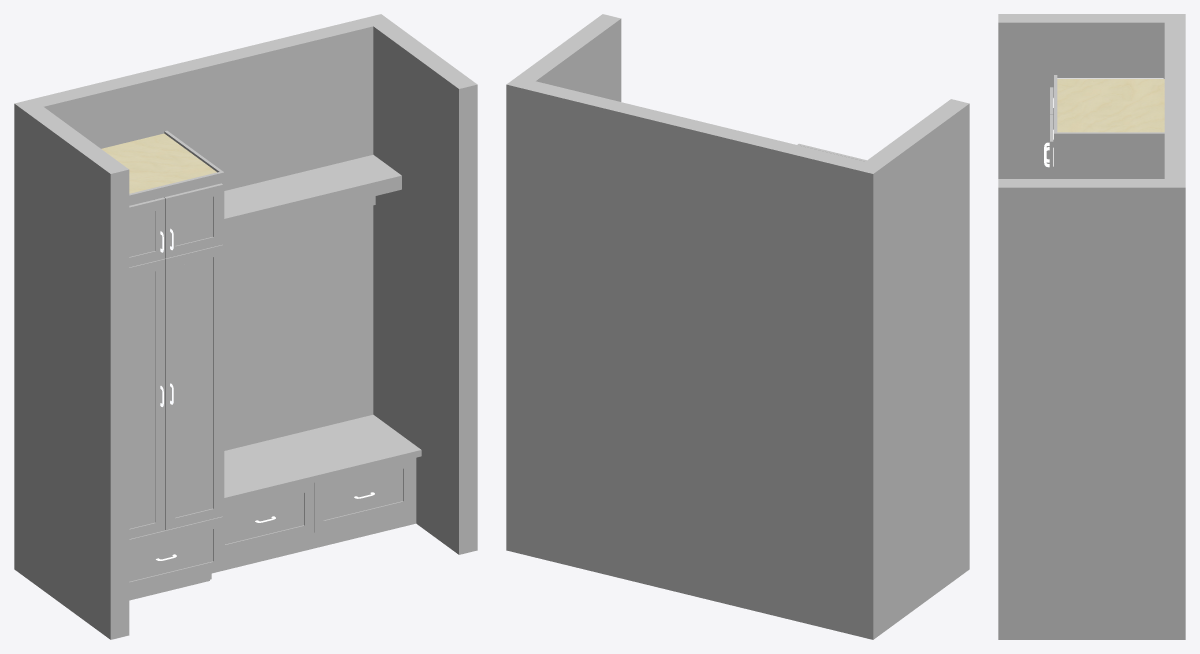
The model's file is Mudroom.dae.
3 renders of one model, left to right at view 1: azimuth 30°, elevation 25°; view 2: azimuth 150°, elevation 25°; view 3: azimuth 270°, elevation 25°, orthographic. The views are drawn at different scales.
Parts seen in each view (by area): view 1: N_WALL-Sh7a298430_Wall_Wall_Room_2a, N_WALL-Sh7a297cb0_Wall_Wall_Room_1a, N_WALL-Sh7a297e90_Wall_Wall_Room_415a, N_DFP-Sh8e6bcc20_Door_Door_275a, N_TO-Sh8e6ca100_Base_Cabinet_Assembly_410a, N_DFP-Sh8e6b4540_Door_Door_259a, N_TO-Sh8e6a3fa0_Upper_Cabinet_Assembly_412a, N_TO-Sh7a3b31c0_Tall_Cabinet_Assembly_192a, N_BR-Sh7a3bbcb0_Base_Cabinet_Assembly_329a, N_DLS-Sh8e6b98f0_Door_Door_271a, N_DRS-Sh8e6b43a0_Door_Door_256a, N_TR-Sh8e6c0c50_Upper_Cabinet_Assembly_414a (+18 smaller); view 2: N_WALL-Sh7a298430_Wall_Wall_Room_2a, N_WALL-Sh7a297cb0_Wall_Wall_Room_1a, N_WALL-Sh7a297e90_Wall_Wall_Room_415a; view 3: N_WALL-Sh7a297e90_Wall_Wall_Room_415a, N_WALL-Sh7a297cb0_Wall_Wall_Room_1a, N_TO-Sh7a3b31c0_Tall_Cabinet_Assembly_192a, N_RF-Sh7a3a4e40_Tall_Cabinet_Assembly_99a, N_WALL-Sh7a298430_Wall_Wall_Room_2a.
Boxes of the visible parts, x1=… form: N_WALL-Sh7a298430_Wall_Wall_Room_2a: x1=14, y1=14, x2=380, y2=450; N_WALL-Sh7a297cb0_Wall_Wall_Room_1a: x1=14, y1=103, x2=129, y2=639; N_WALL-Sh7a297e90_Wall_Wall_Room_415a: x1=373, y1=14, x2=477, y2=554; N_DFP-Sh8e6bcc20_Door_Door_275a: x1=175, y1=257, x2=213, y2=517; N_TO-Sh8e6ca100_Base_Cabinet_Assembly_410a: x1=224, y1=414, x2=419, y2=496; N_DFP-Sh8e6b4540_Door_Door_259a: x1=129, y1=271, x2=155, y2=528; N_TO-Sh8e6a3fa0_Upper_Cabinet_Assembly_412a: x1=224, y1=154, x2=399, y2=216; N_TO-Sh7a3b31c0_Tall_Cabinet_Assembly_192a: x1=101, y1=133, x2=216, y2=193; N_BR-Sh7a3bbcb0_Base_Cabinet_Assembly_329a: x1=216, y1=510, x2=407, y2=572; N_DLS-Sh8e6b98f0_Door_Door_271a: x1=165, y1=256, x2=175, y2=530; N_DRS-Sh8e6b43a0_Door_Door_256a: x1=155, y1=259, x2=165, y2=532; N_TR-Sh8e6c0c50_Upper_Cabinet_Assembly_414a: x1=224, y1=174, x2=401, y2=232; N_WALL-Sh7a298430_Wall_Wall_Room_2a: x1=506, y1=81, x2=873, y2=639; N_WALL-Sh7a297cb0_Wall_Wall_Room_1a: x1=865, y1=99, x2=969, y2=639; N_WALL-Sh7a297e90_Wall_Wall_Room_415a: x1=506, y1=14, x2=621, y2=101; N_WALL-Sh7a297e90_Wall_Wall_Room_415a: x1=998, y1=179, x2=1185, y2=639; N_WALL-Sh7a297cb0_Wall_Wall_Room_1a: x1=998, y1=14, x2=1184, y2=178; N_TO-Sh7a3b31c0_Tall_Cabinet_Assembly_192a: x1=1057, y1=79, x2=1164, y2=132; N_RF-Sh7a3a4e40_Tall_Cabinet_Assembly_99a: x1=1057, y1=132, x2=1164, y2=178; N_WALL-Sh7a298430_Wall_Wall_Room_2a: x1=1164, y1=14, x2=1185, y2=187.
Size of the model in its own units: 89 by 108 by 40.5.
